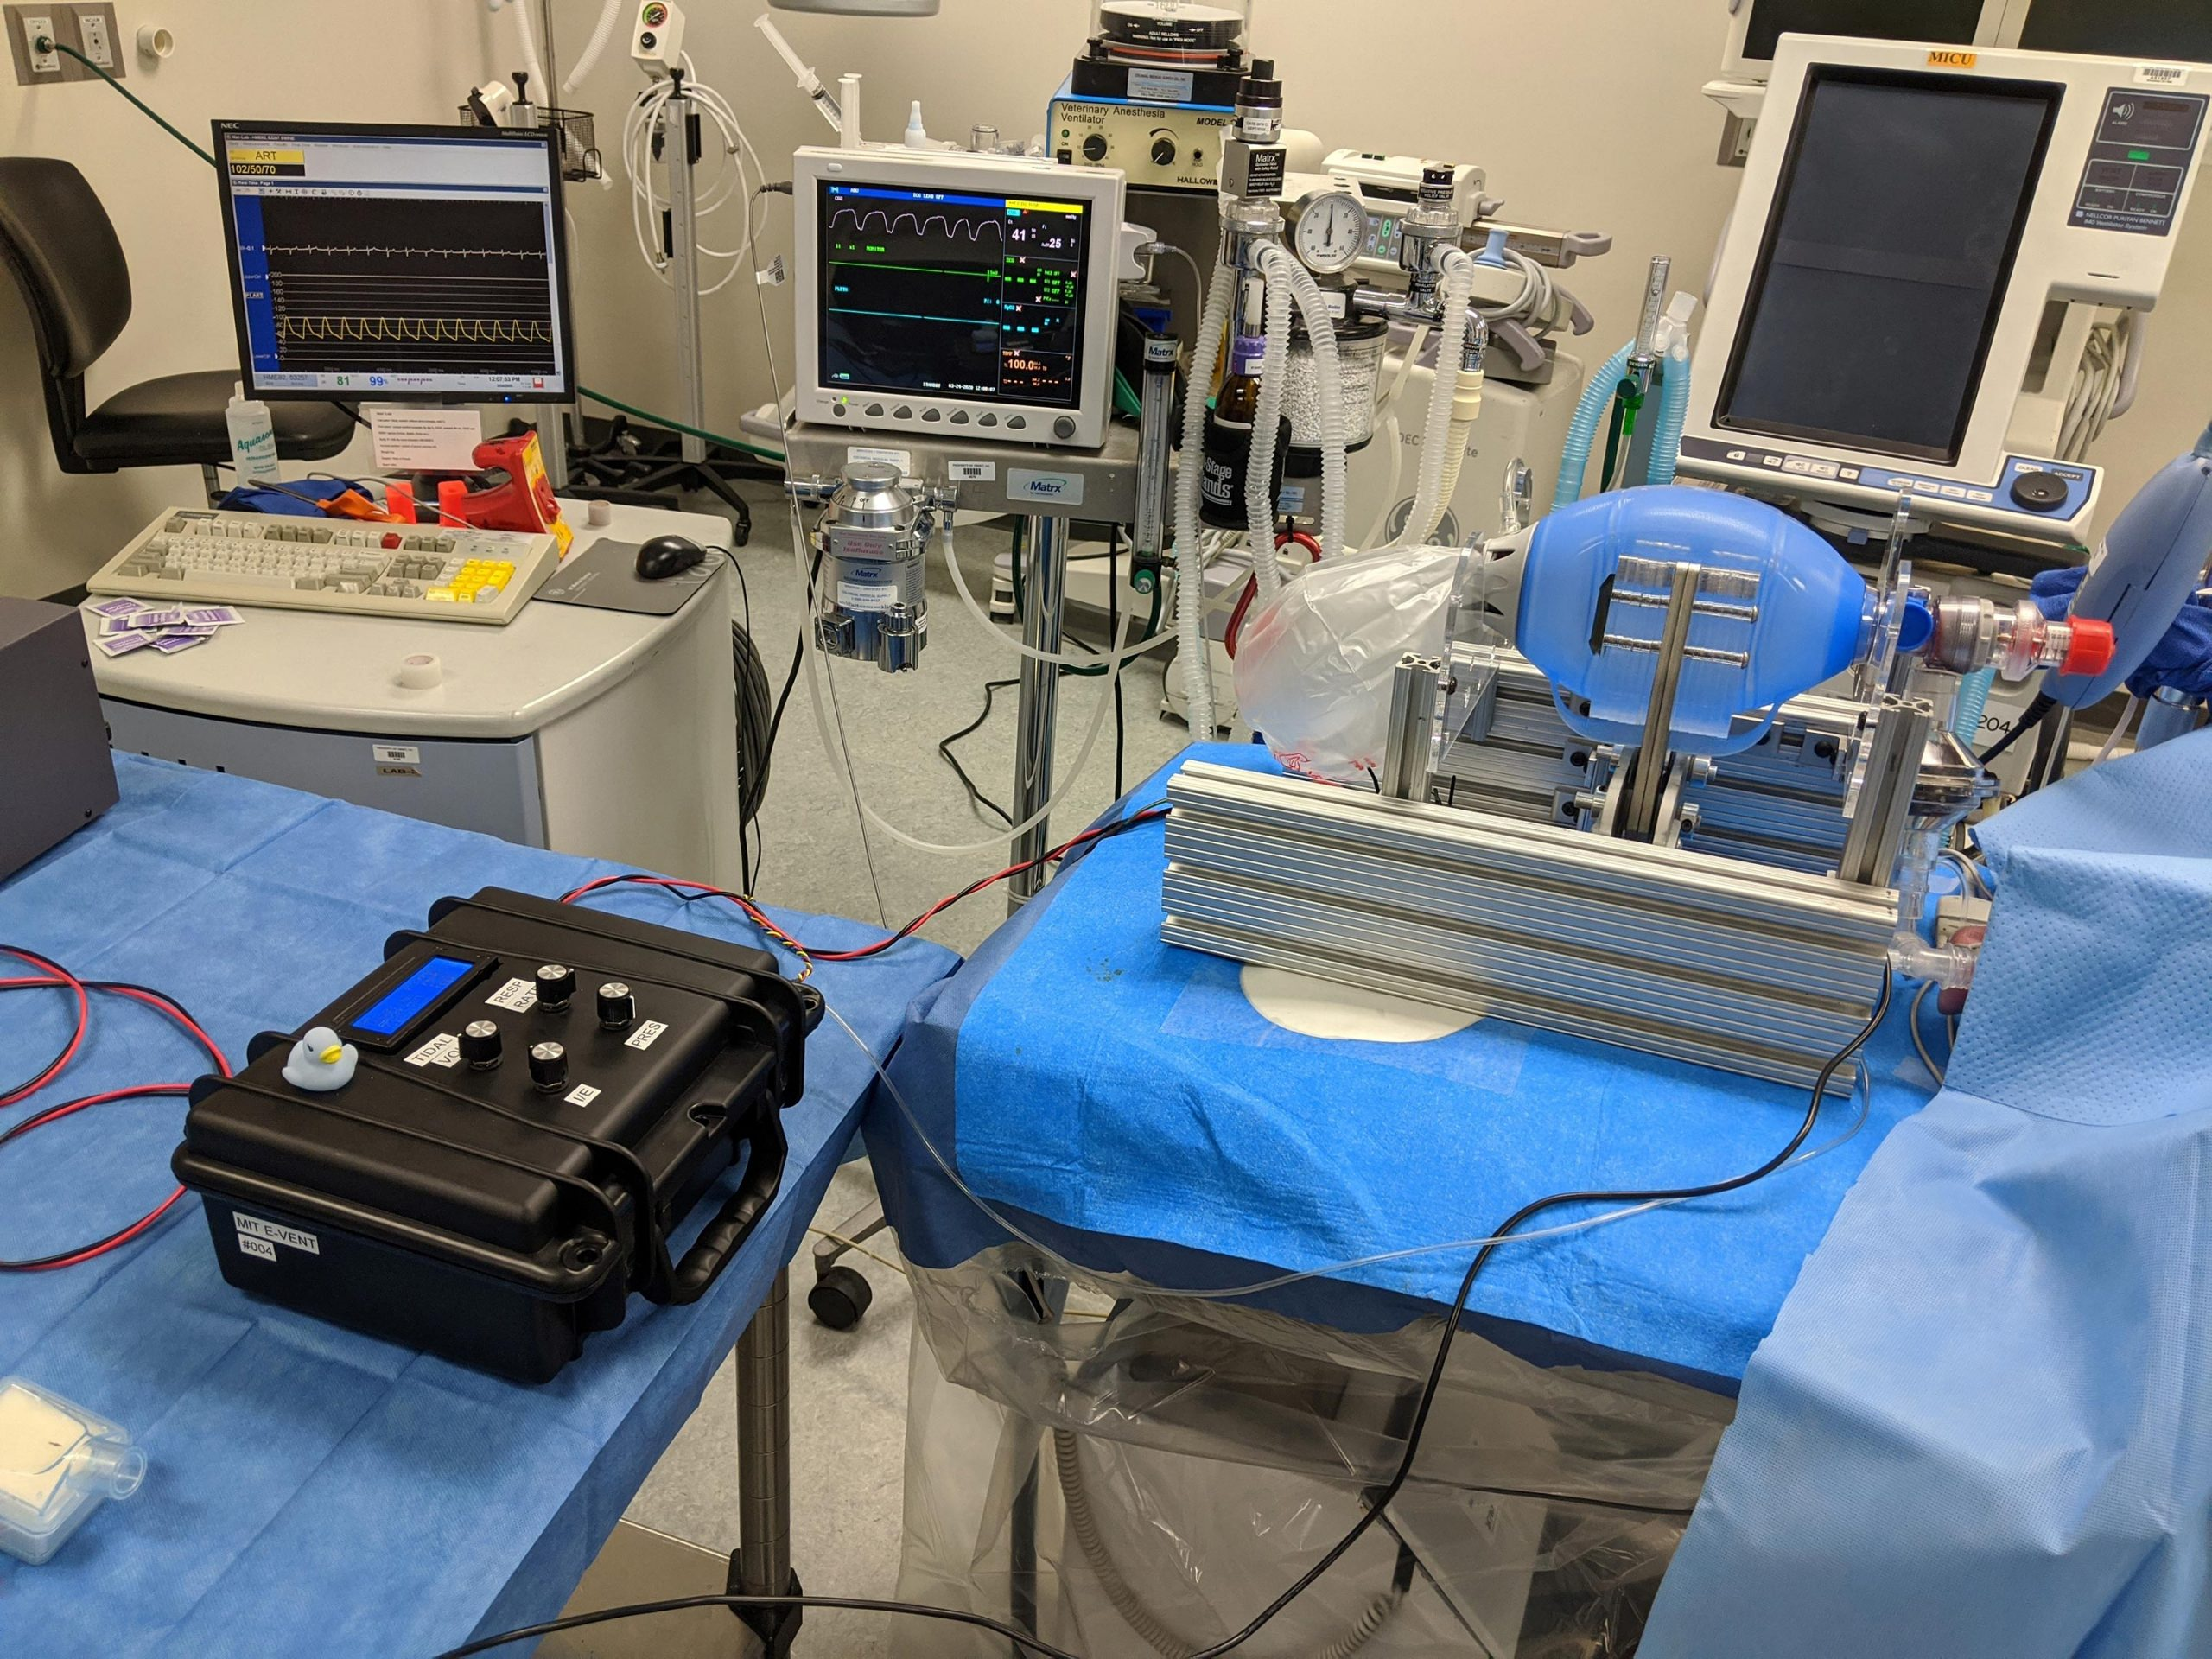bedside_monitor: (1749, 59, 2040, 493), (786, 146, 1130, 457)
breathing_tube: (1150, 227, 1522, 751)
computer: (216, 113, 592, 415)
keyboard: (89, 498, 563, 636)
mouse: (634, 523, 723, 606)
operating_bed: (890, 727, 2212, 1659)
table: (84, 500, 745, 927)
utility_cart: (7, 737, 972, 1659)
ventilator: (1136, 35, 2212, 840)
